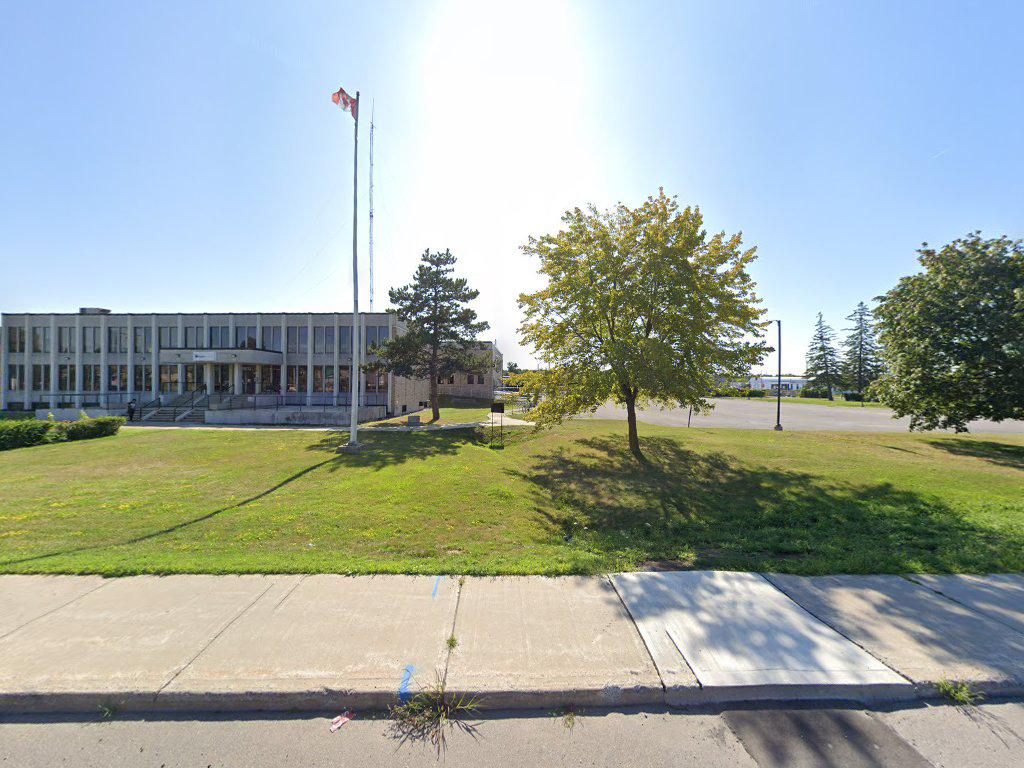trunk: (622, 386, 648, 461)
